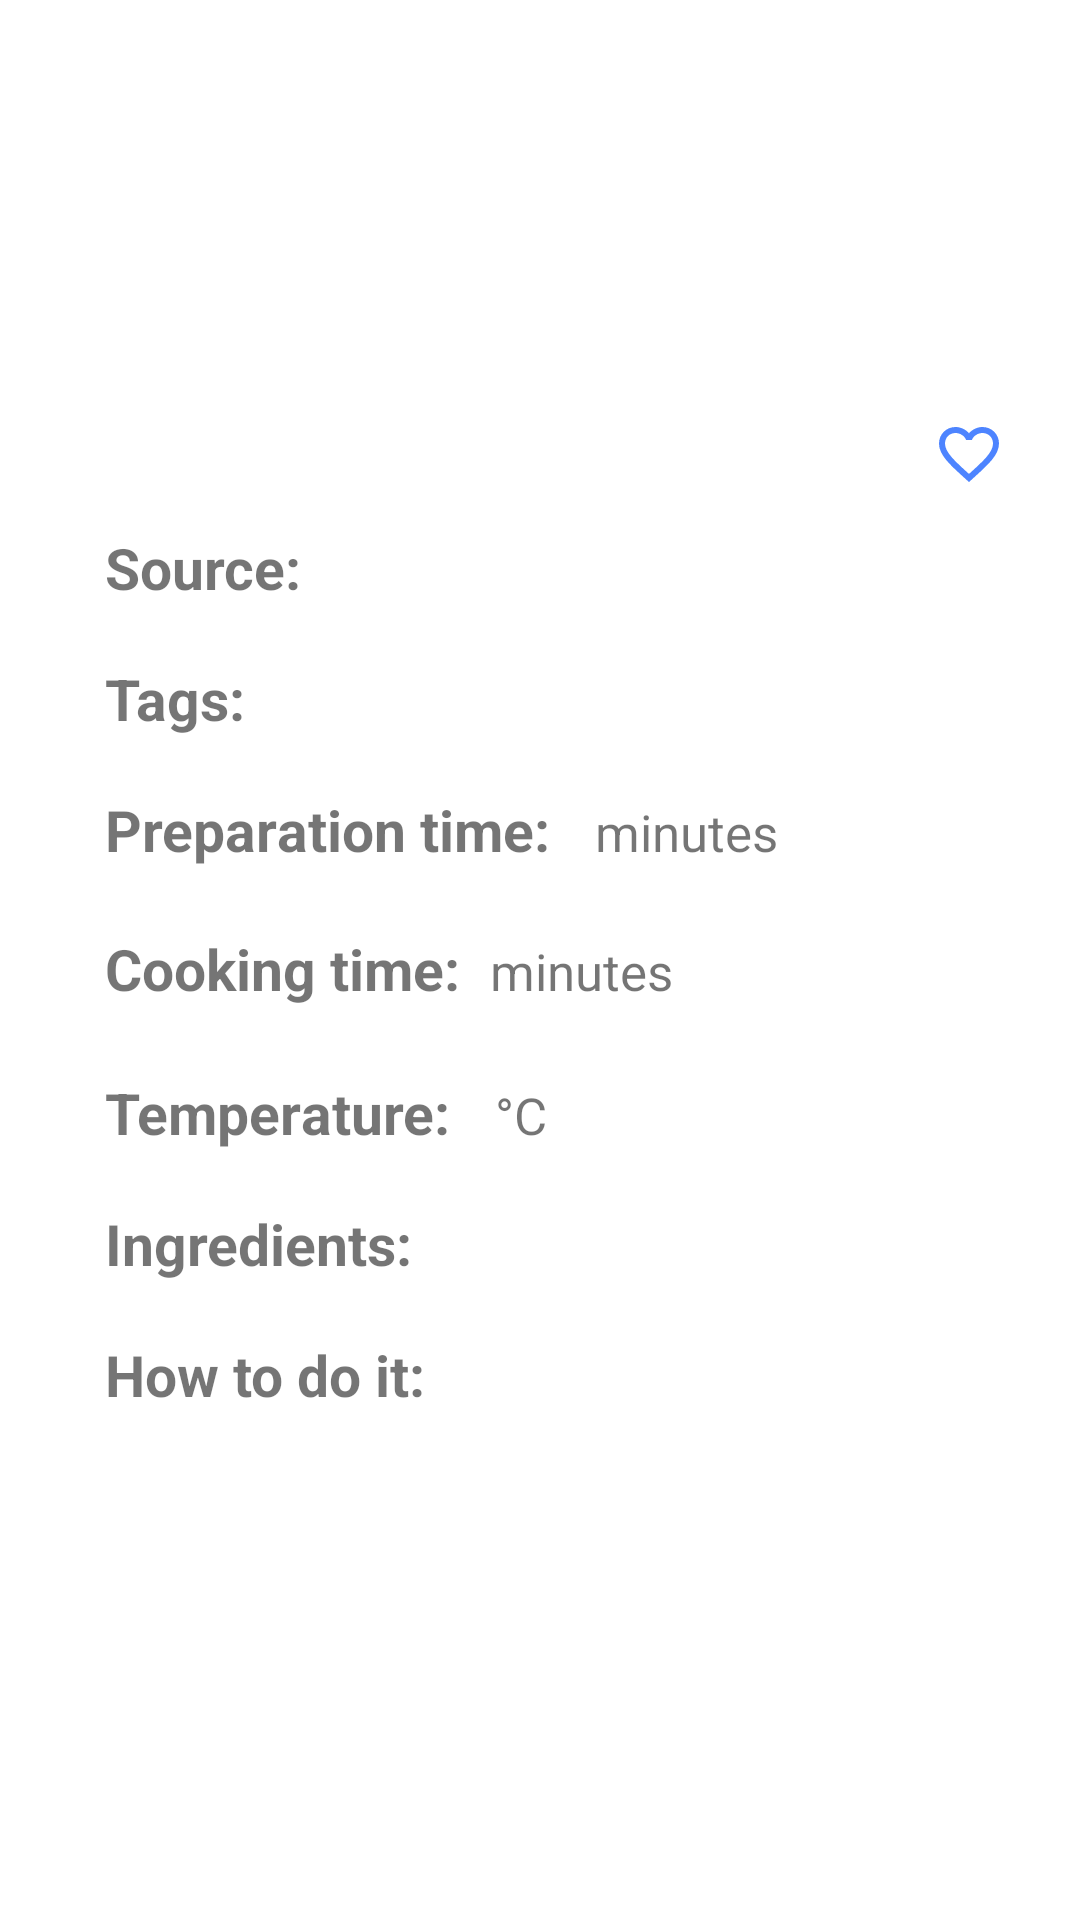

Locate icon controls on the screen. Image size 1080px x 1920px, boxes as (x1, y1, x2, y2).
heart checkbox: (939, 427, 999, 482)
